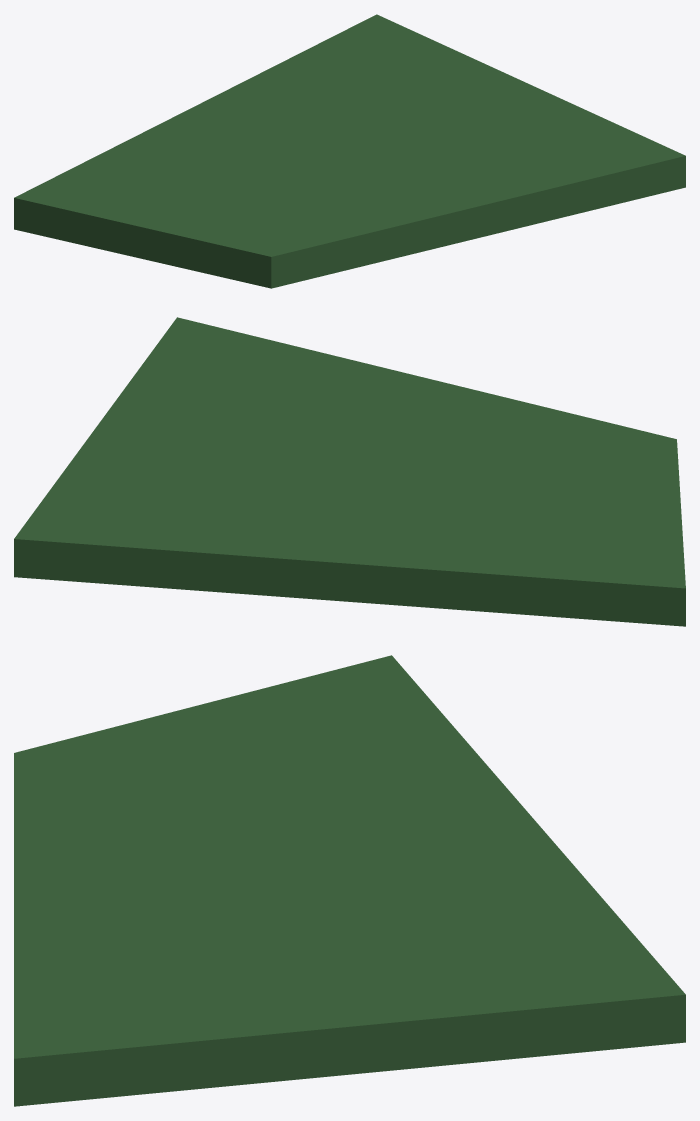
The model's file is x_proval_00_221_1_rmstrd.fbx.
3 views of the same model, one above another, from view 1: azimuth 30°, elevation 25°; view 2: azimuth 150°, elevation 25°; view 3: azimuth 270°, elevation 25° (orthographic). The views are drawn at different scales.
Parts seen in each view (by area): view 1: x_proval_00_221_1_rmstrd1; view 2: x_proval_00_221_1_rmstrd1; view 3: x_proval_00_221_1_rmstrd1.
Part boxes in pixels (box(x1,y1,x2,y2)): x_proval_00_221_1_rmstrd1: box(14, 14, 685, 288); x_proval_00_221_1_rmstrd1: box(14, 317, 685, 626); x_proval_00_221_1_rmstrd1: box(14, 655, 685, 1106).
Bounding box in the file's own units: 3.61 × 0.2 × 2.54.
